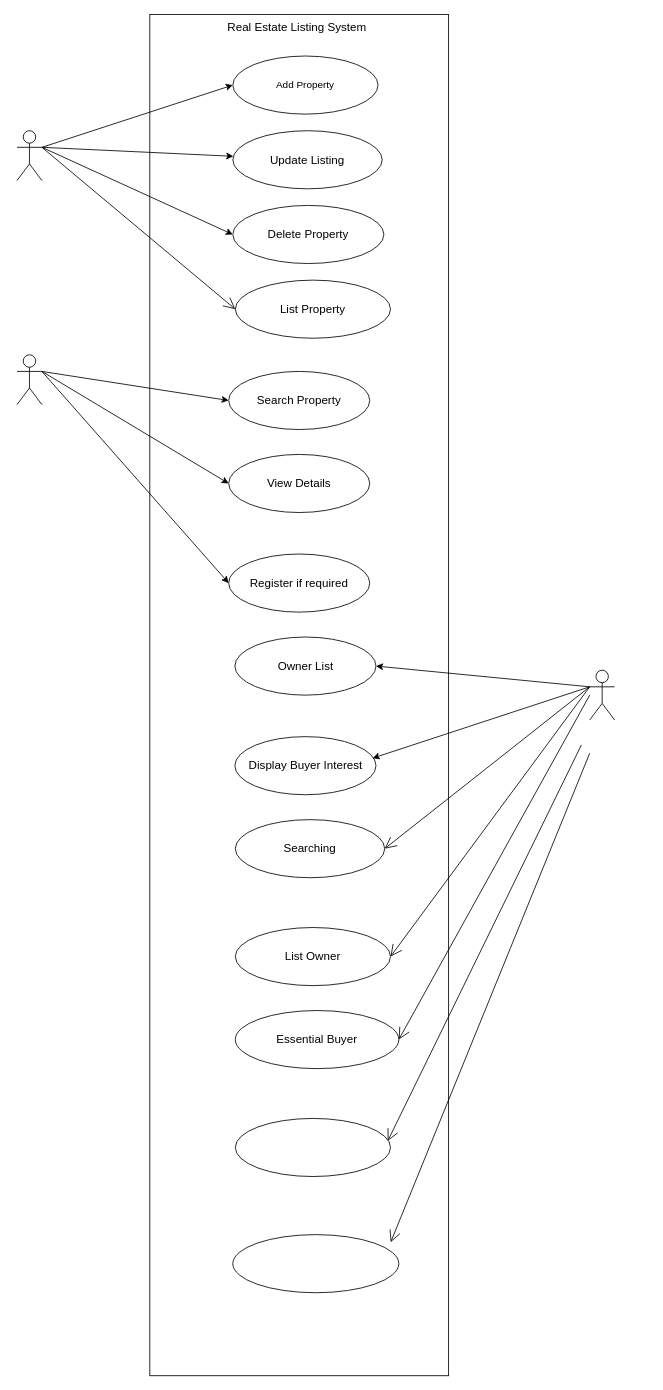
This 663x1390 diagram has some shape labels left out. Each missing label, with the box of its shape:
Buyer: (16, 354, 42, 405)
Buyer info: (234, 1118, 391, 1177)
List Buyer: (232, 1234, 399, 1293)
Owner: (16, 130, 42, 181)
Real Estate Agent: (589, 669, 615, 720)
